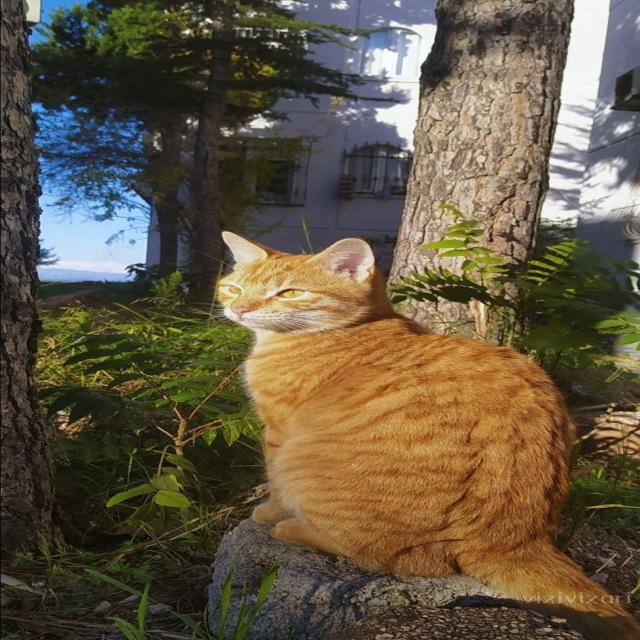sarman: (217, 232, 639, 640)
